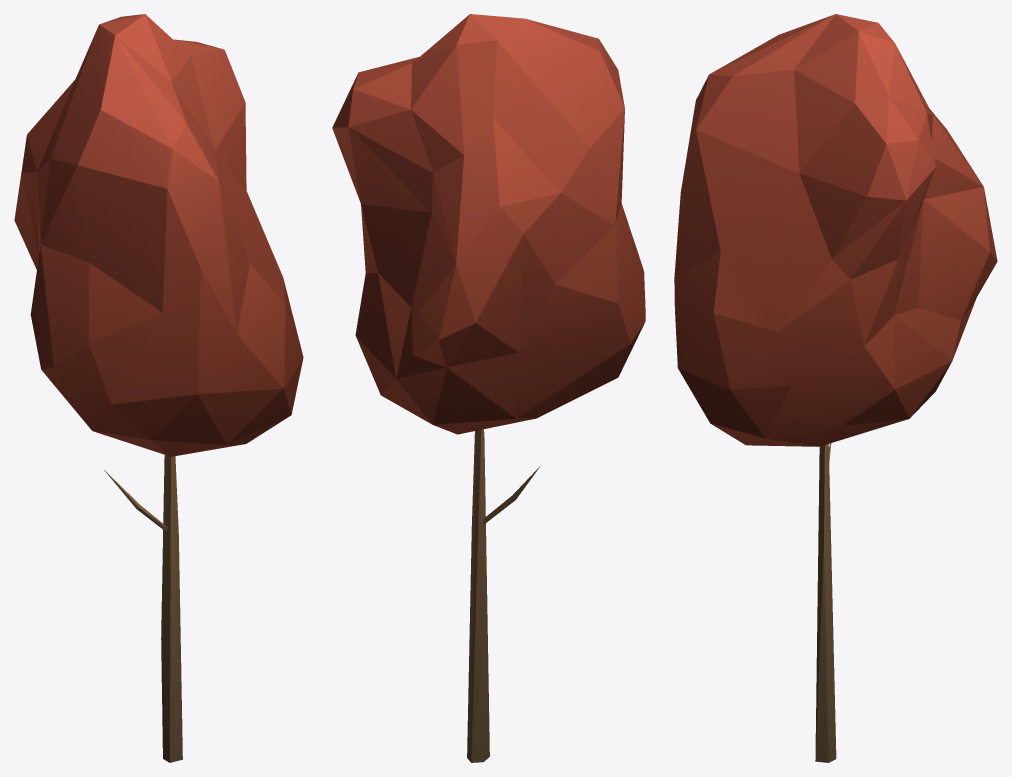
The model's file is Autumn_Tree_09.glb.
3 renders of one model, left to right at view 1: azimuth 30°, elevation 25°; view 2: azimuth 150°, elevation 25°; view 3: azimuth 270°, elevation 25°, orthographic. The views are drawn at different scales.
Visible parts, largest first — view 1: Autumn_Tree_09_LOD0; view 2: Autumn_Tree_09_LOD0; view 3: Autumn_Tree_09_LOD0.
Part boxes in pixels (x1,y1,x2,y2): Autumn_Tree_09_LOD0: (14, 14, 303, 762); Autumn_Tree_09_LOD0: (332, 14, 645, 762); Autumn_Tree_09_LOD0: (674, 14, 997, 762).
Size of what is drawn, in the model's own units: 1.2 by 3.53 by 1.43.
Materials: 1 (1 with a texture image).
